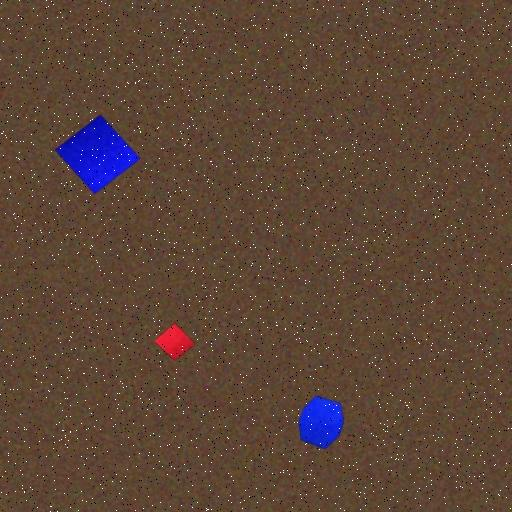BLUE_SQUARE: (54, 114, 140, 196)
RED_SQUARE: (153, 322, 196, 362)
